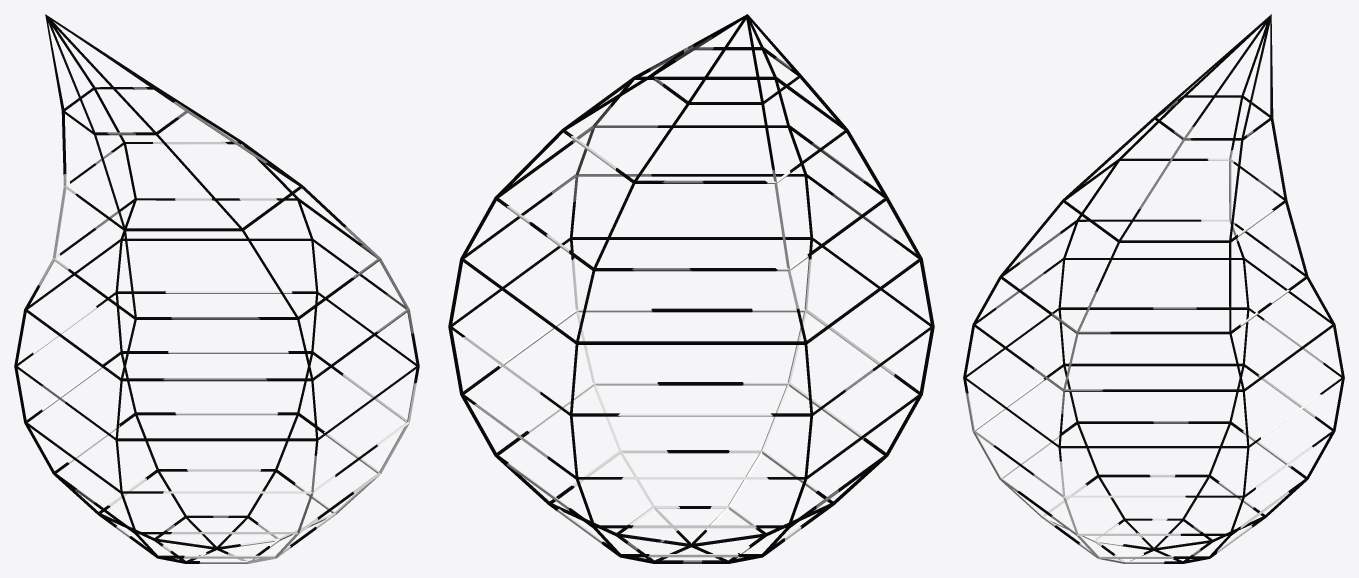
File: paint_wire.gltf
3 views of the same model, side by side, from view 1: azimuth 30°, elevation 25°; view 2: azimuth 150°, elevation 25°; view 3: azimuth 270°, elevation 25° (orthographic). The views are drawn at different scales.
Visible parts, largest first — view 1: Cube; view 2: Cube; view 3: Cube.
Part boxes in pixels (box(x1,y1,x2,y2)): Cube: box(14, 14, 419, 563); Cube: box(448, 14, 934, 563); Cube: box(963, 14, 1344, 563).
Size of the model in its own units: 1.75 by 2.83 by 2.02.
1 material, 1 textured.
